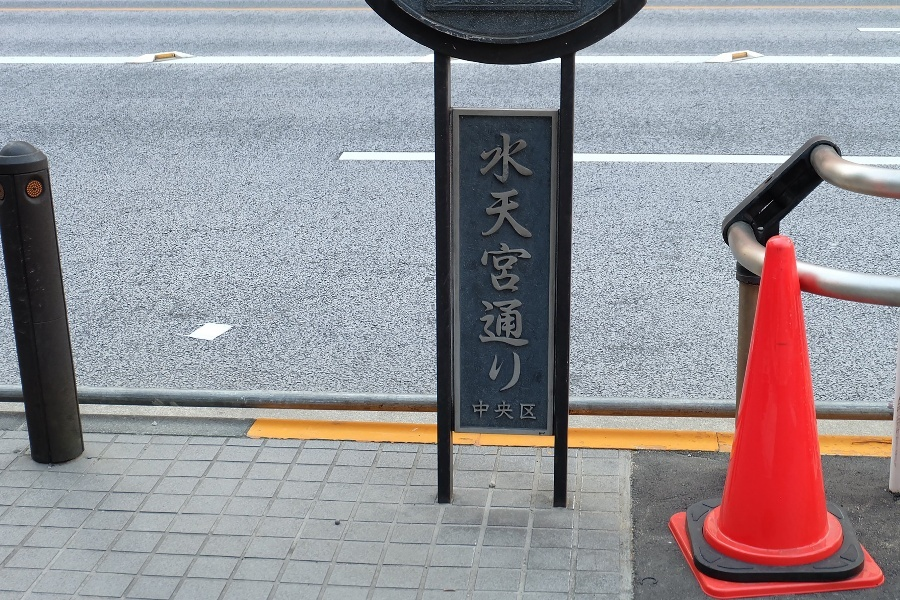text: (481, 134, 496, 393), (497, 134, 512, 393), (513, 134, 528, 393), (529, 134, 533, 393), (481, 400, 496, 420), (497, 400, 512, 420), (513, 400, 528, 420), (472, 400, 480, 420), (529, 400, 536, 420)
